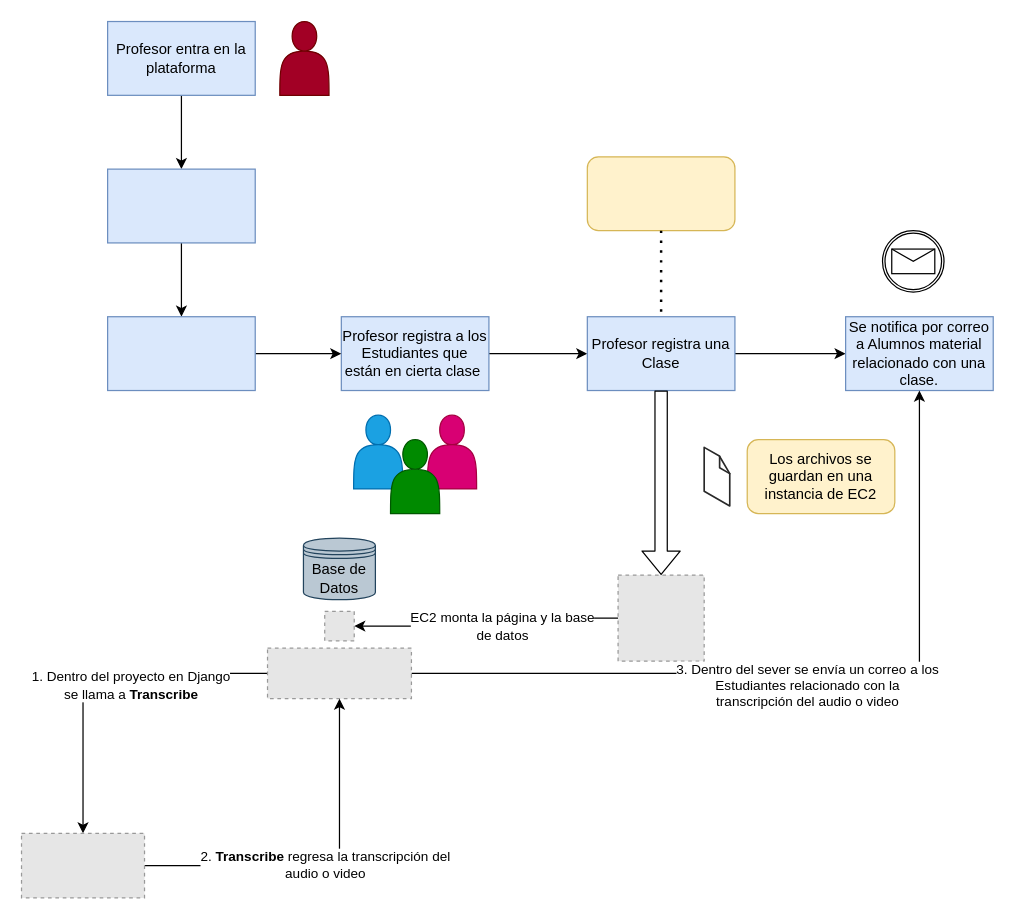
The diagram is 1015 pixels wide and 920 high, and some of its shapes have lost their labels. Grey dashed boxes stand in for pictures. The shapes that lost their labels are listed below. From the top down, each one's centre as x and y in pixels, then its label:
At point 180,205: "Profesor se da de alta en la plataforma".
At point 660,193: "Aquí se sube un archivo de audio o video".
At point 180,353: "Profesor registra una materia o Salon".
